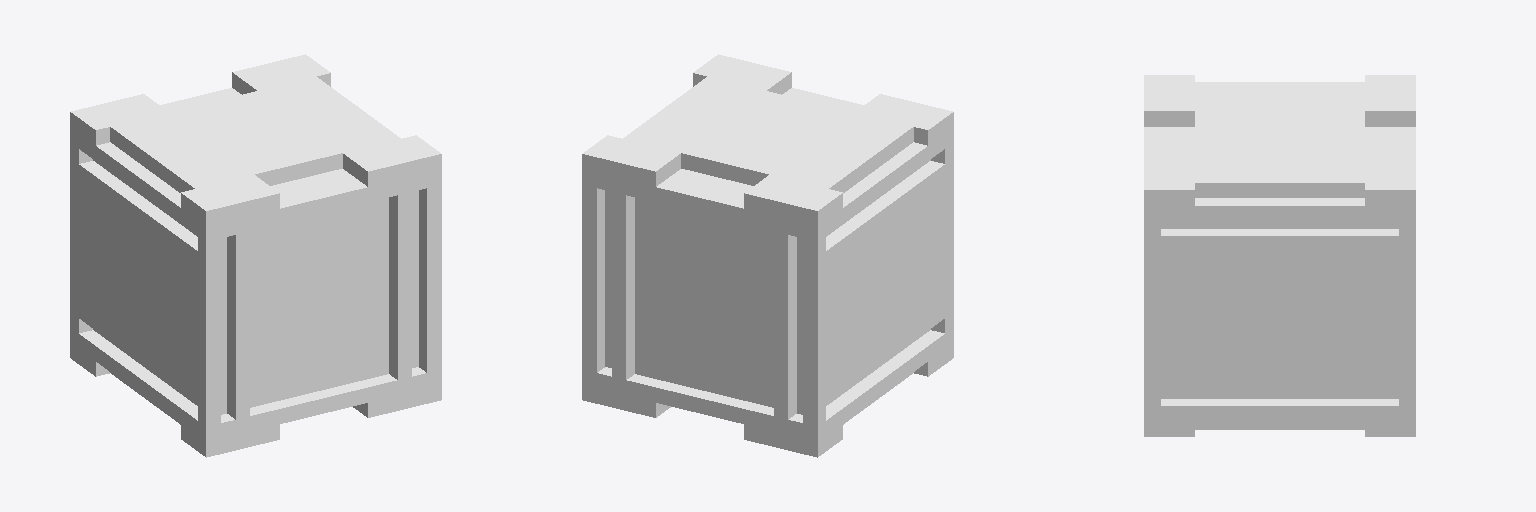
Rendered from BrickCut3.obj.
The picture shows the model from 3 angles: view 1: azimuth 30°, elevation 25°; view 2: azimuth 150°, elevation 25°; view 3: azimuth 270°, elevation 25°; orthographic projection.
Size of the model in its own units: 16 by 16 by 16.